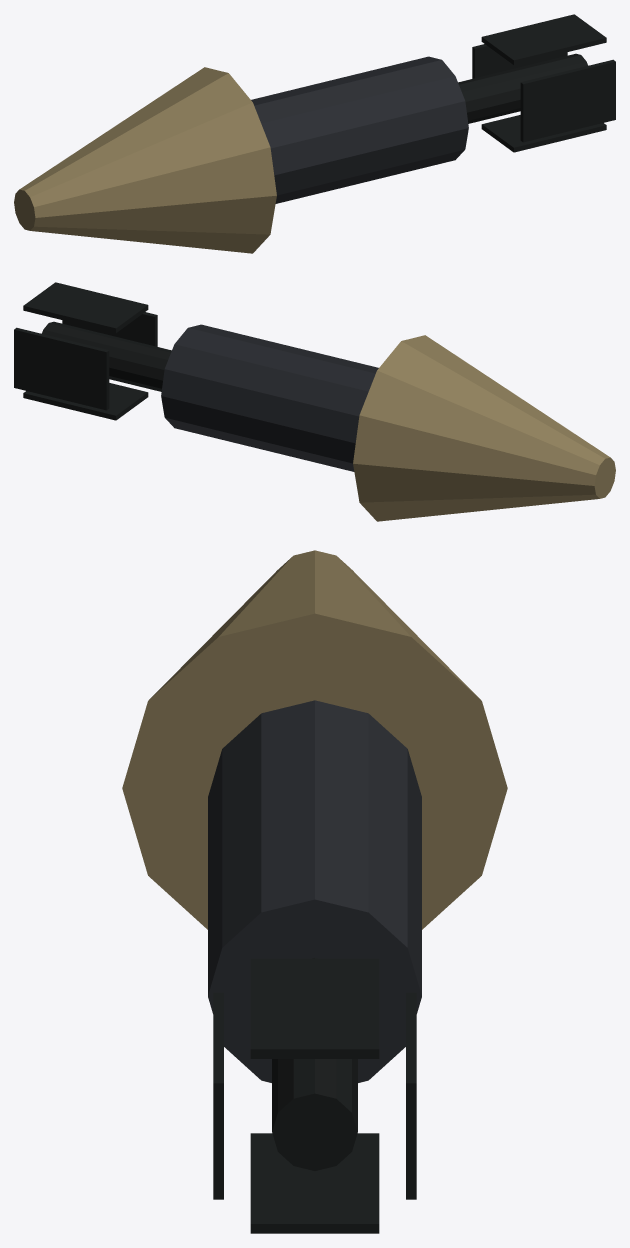
File: RPG_Warhead.obj
The picture shows the model from 3 angles, top to bottom: view 1: azimuth 30°, elevation 25°; view 2: azimuth 150°, elevation 25°; view 3: azimuth 270°, elevation 25°; orthographic projection. The views are drawn at different scales.
Visible parts, largest first — view 1: RPG_Warhead_Nose, RPG_Warhead_Body, RPG_Warhead_Fin2, RPG_Warhead_Fin1, RPG_Warhead_Stem, RPG_Warhead_Fin3, RPG_Warhead_Fin0; view 2: RPG_Warhead_Nose, RPG_Warhead_Body, RPG_Warhead_Fin0, RPG_Warhead_Fin1, RPG_Warhead_Stem, RPG_Warhead_Fin3, RPG_Warhead_Fin2; view 3: RPG_Warhead_Nose, RPG_Warhead_Body, RPG_Warhead_Fin1, RPG_Warhead_Fin3, RPG_Warhead_Stem, RPG_Warhead_Fin0, RPG_Warhead_Fin2.
Boxes of the visible parts, x1=… form: RPG_Warhead_Nose: x1=14, y1=67, x2=276, y2=253; RPG_Warhead_Body: x1=251, y1=56, x2=468, y2=203; RPG_Warhead_Fin2: x1=520, y1=59, x2=615, y2=142; RPG_Warhead_Fin1: x1=481, y1=14, x2=606, y2=64; RPG_Warhead_Stem: x1=458, y1=53, x2=587, y2=123; RPG_Warhead_Fin3: x1=481, y1=115, x2=606, y2=152; RPG_Warhead_Fin0: x1=472, y1=44, x2=567, y2=78; RPG_Warhead_Nose: x1=353, y1=335, x2=615, y2=521; RPG_Warhead_Body: x1=161, y1=324, x2=378, y2=471; RPG_Warhead_Fin0: x1=14, y1=327, x2=109, y2=410; RPG_Warhead_Fin1: x1=23, y1=282, x2=148, y2=332; RPG_Warhead_Stem: x1=42, y1=321, x2=171, y2=391; RPG_Warhead_Fin3: x1=23, y1=383, x2=148, y2=420; RPG_Warhead_Fin2: x1=62, y1=312, x2=157, y2=346; RPG_Warhead_Nose: x1=122, y1=550, x2=507, y2=929; RPG_Warhead_Body: x1=208, y1=700, x2=421, y2=1082; RPG_Warhead_Fin1: x1=250, y1=958, x2=379, y2=1058; RPG_Warhead_Fin3: x1=250, y1=1133, x2=379, y2=1233; RPG_Warhead_Stem: x1=272, y1=958, x2=357, y2=1170; RPG_Warhead_Fin0: x1=406, y1=992, x2=416, y2=1199; RPG_Warhead_Fin2: x1=213, y1=992, x2=223, y2=1199.
Size of the model in its own units: 0.61 by 0.18 by 0.18.
